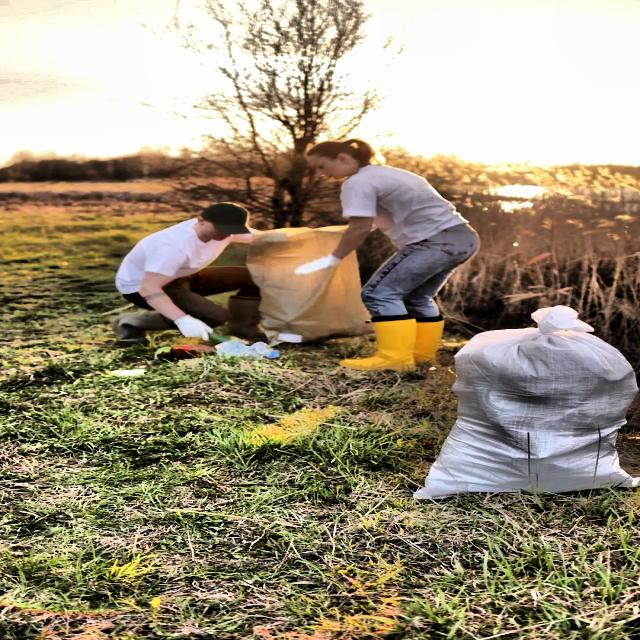gloved: (274, 255, 362, 275), (160, 310, 218, 340)
